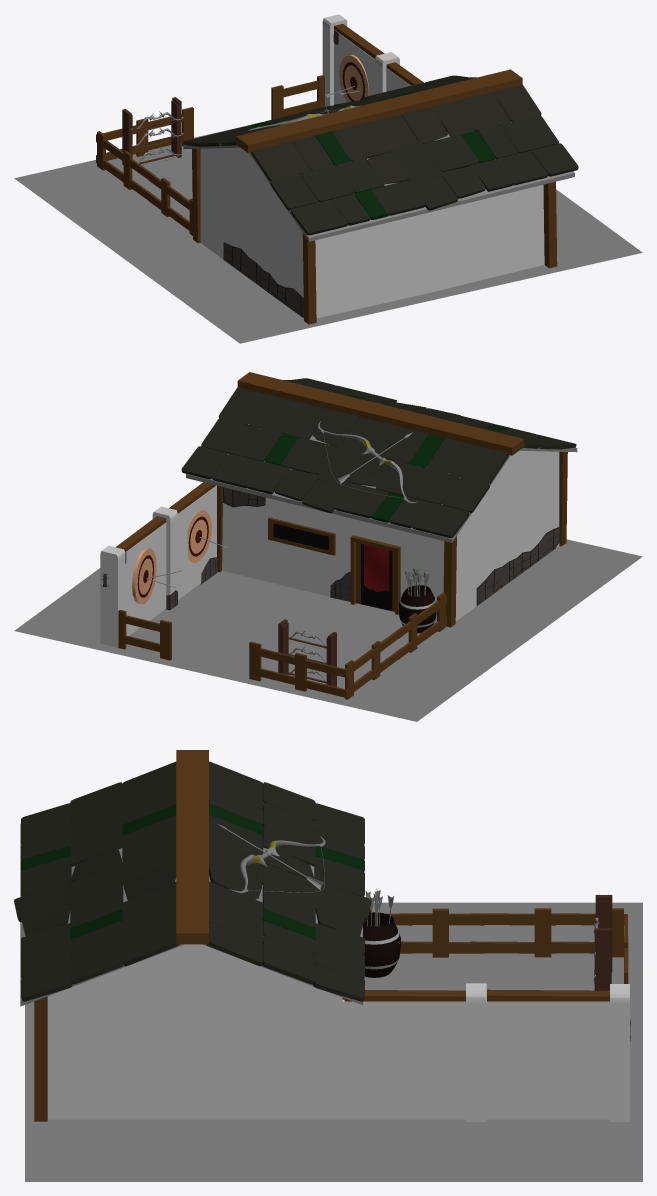
Rendered from archery-barracks.fbx.
The picture shows the model from 3 angles, top to bottom: view 1: azimuth 30°, elevation 25°; view 2: azimuth 150°, elevation 25°; view 3: azimuth 270°, elevation 25°; orthographic projection. The views are drawn at different scales.
Parts seen in each view (by area): view 1: Box001, Plane001, Box097, Box002, Box225, Box222, Box234, Box243, Box231, Box218, Box230, Box227 (+27 smaller); view 2: Plane001, Box001, Box097, Box004, Box002, Box142, Box198, Box207, Box216, Box016, Box012, Box204 (+33 smaller); view 3: Box001, Plane001, Box097, Cylinder007, Box101, Box207, Box234, Box198, Box225, Box157, Box222, Box231 (+57 smaller).
Boxes of the visible parts, bbox=[...] form: Box001: bbox=[200, 14, 544, 318]; Plane001: bbox=[14, 126, 642, 343]; Box097: bbox=[236, 69, 522, 152]; Box002: bbox=[183, 121, 574, 241]; Box225: bbox=[251, 141, 310, 181]; Box222: bbox=[332, 122, 388, 160]; Box234: bbox=[501, 115, 558, 152]; Box243: bbox=[290, 199, 347, 235]; Box231: bbox=[423, 135, 478, 171]; Box218: bbox=[456, 92, 510, 131]; Box230: bbox=[391, 140, 443, 180]; Box227: bbox=[301, 165, 354, 201]; Plane001: bbox=[14, 539, 642, 721]; Box001: bbox=[100, 450, 559, 647]; Box097: bbox=[237, 372, 524, 455]; Box004: bbox=[350, 535, 400, 614]; Box002: bbox=[186, 424, 577, 542]; Box142: bbox=[268, 517, 335, 555]; Box198: bbox=[449, 443, 508, 483]; Box207: bbox=[201, 418, 258, 455]; Box216: bbox=[412, 502, 469, 537]; Box016: bbox=[371, 424, 427, 463]; Box012: bbox=[249, 394, 303, 433]; Box204: bbox=[281, 438, 336, 474]; Box001: bbox=[47, 944, 629, 1121]; Plane001: bbox=[25, 902, 642, 1181]; Box097: bbox=[176, 750, 208, 944]; Cylinder007: bbox=[363, 912, 400, 977]; Box101: bbox=[34, 996, 47, 1121]; Box207: bbox=[262, 936, 315, 984]; Box234: bbox=[70, 936, 123, 984]; Box198: bbox=[209, 761, 263, 809]; Box225: bbox=[122, 761, 176, 809]; Box157: bbox=[487, 989, 609, 1001]; Box222: bbox=[122, 815, 176, 861]; Box231: bbox=[70, 884, 123, 927].
Bounding box in the file's own units: 371 × 134 × 367.
